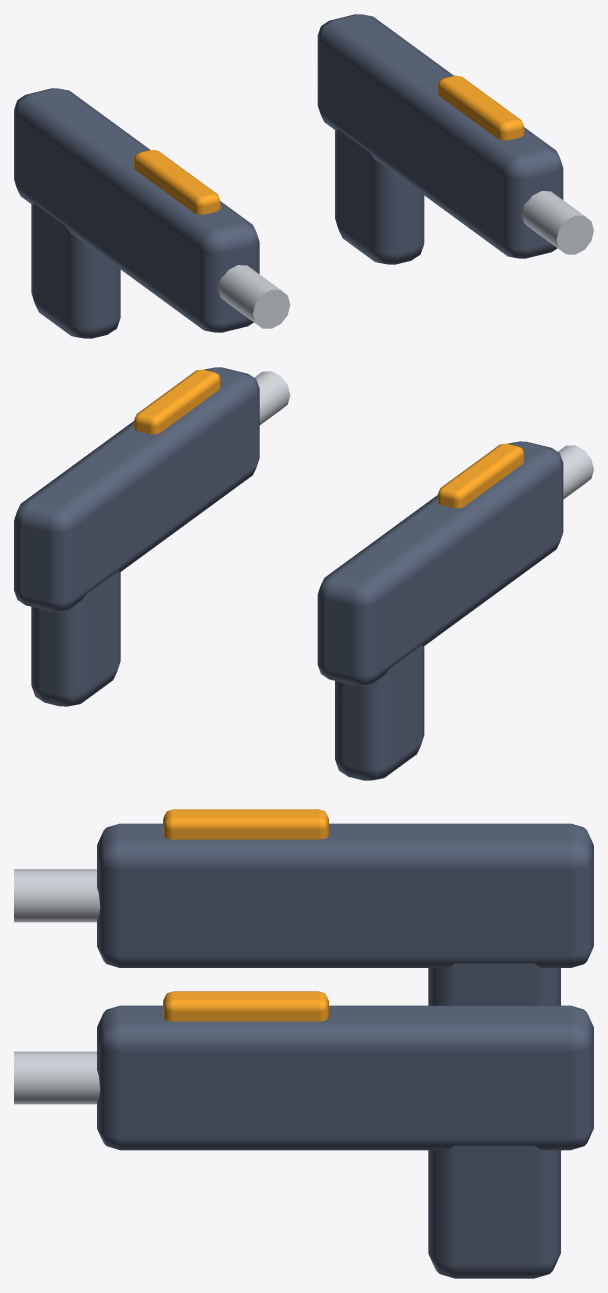
File: hero-shooter-harbour-payload-item-twin-pistols-176d026e__27665.glb
3 renders of one model, top to bottom at view 1: azimuth 30°, elevation 25°; view 2: azimuth 150°, elevation 25°; view 3: azimuth 270°, elevation 25°, orthographic. The views are drawn at different scales.
Parts seen in each view (by area): view 1: item-twin-pistols; view 2: item-twin-pistols; view 3: item-twin-pistols.
Boxes of the visible parts, x1,y1,x2,y2 form: item-twin-pistols: [14, 14, 593, 338]; item-twin-pistols: [14, 367, 593, 780]; item-twin-pistols: [14, 809, 593, 1278].
Size of the model in its own units: 0.31 by 0.185 by 0.35.
